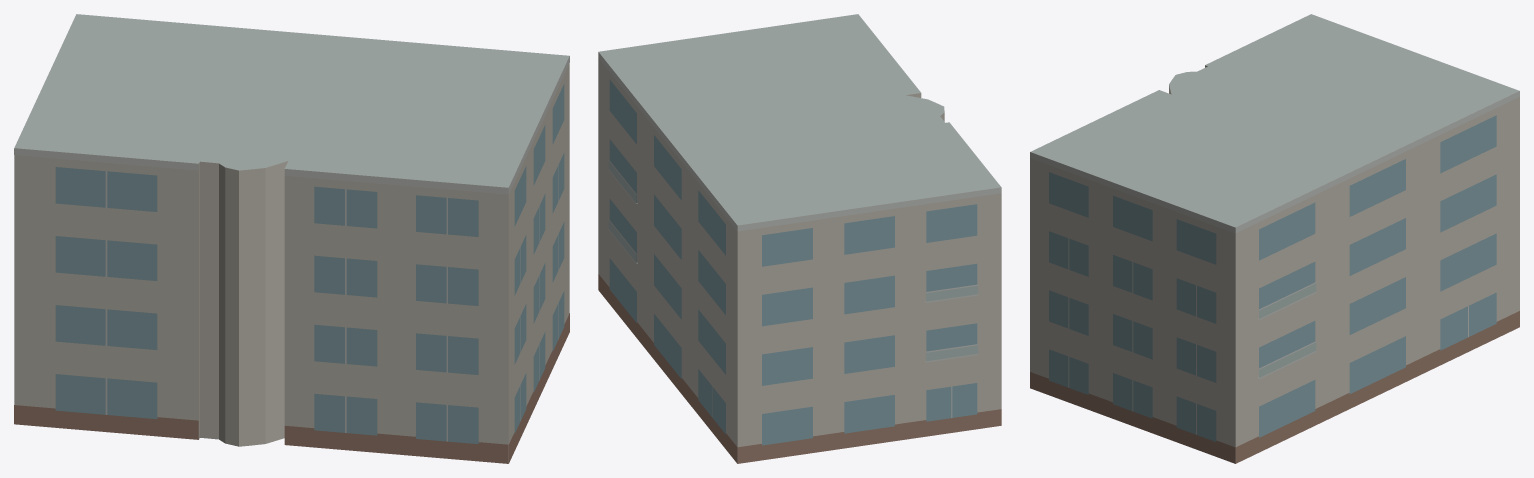
Rendered from survey-upis-33027618.glb.
3 renders of one model, left to right at view 1: azimuth 30°, elevation 25°; view 2: azimuth 150°, elevation 25°; view 3: azimuth 270°, elevation 25°, orthographic. The views are drawn at different scales.
Parts seen in each view (by area): view 1: survey-upis-33027618.tmp; view 2: survey-upis-33027618.tmp; view 3: survey-upis-33027618.tmp.
Boxes of the visible parts, x1,y1,x2,y2 form: survey-upis-33027618.tmp: (14,14,569,463); survey-upis-33027618.tmp: (598,14,1001,463); survey-upis-33027618.tmp: (1030,14,1519,463).
Size of the model in its own units: 19.2 by 9.9 by 18.6.
